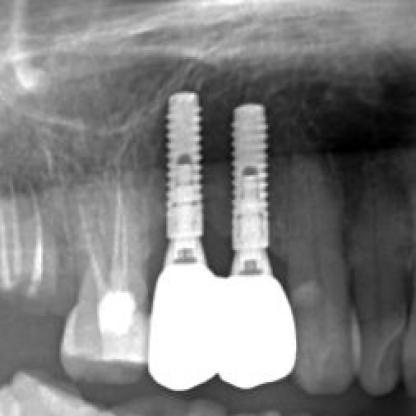ITI: (228, 100, 272, 268), (161, 89, 205, 257)
